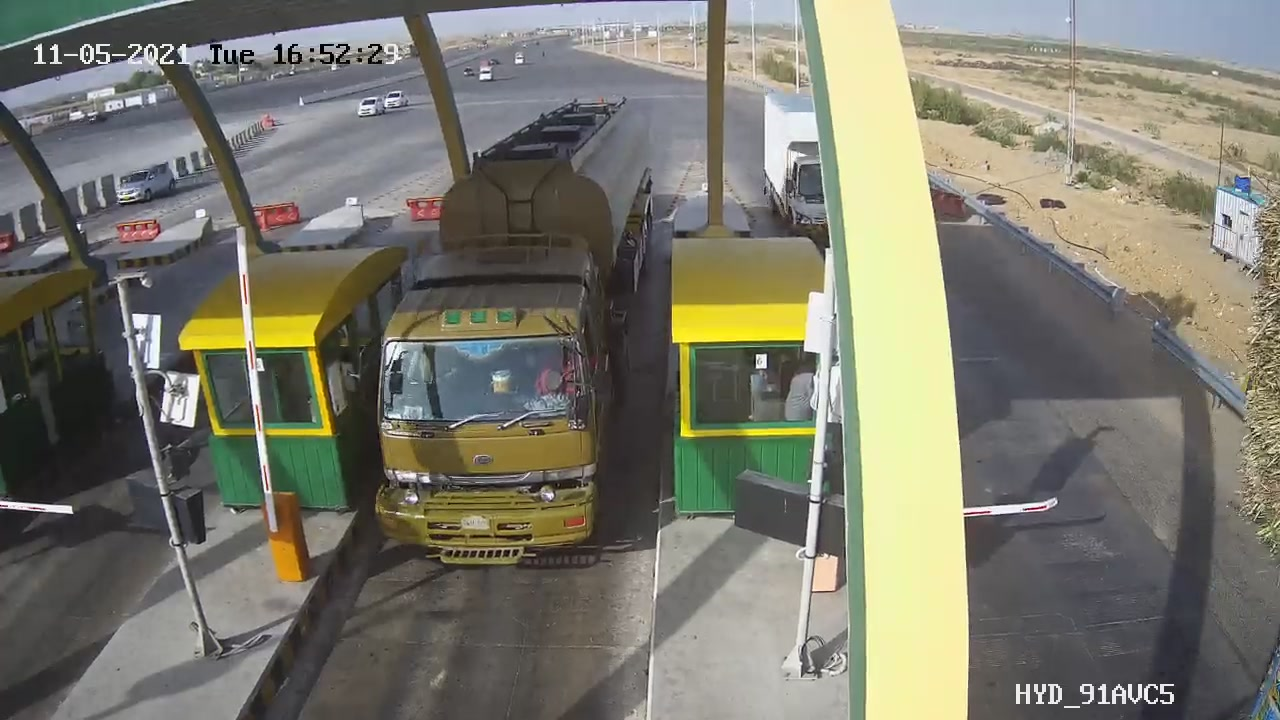F6: (326, 81, 688, 597)
